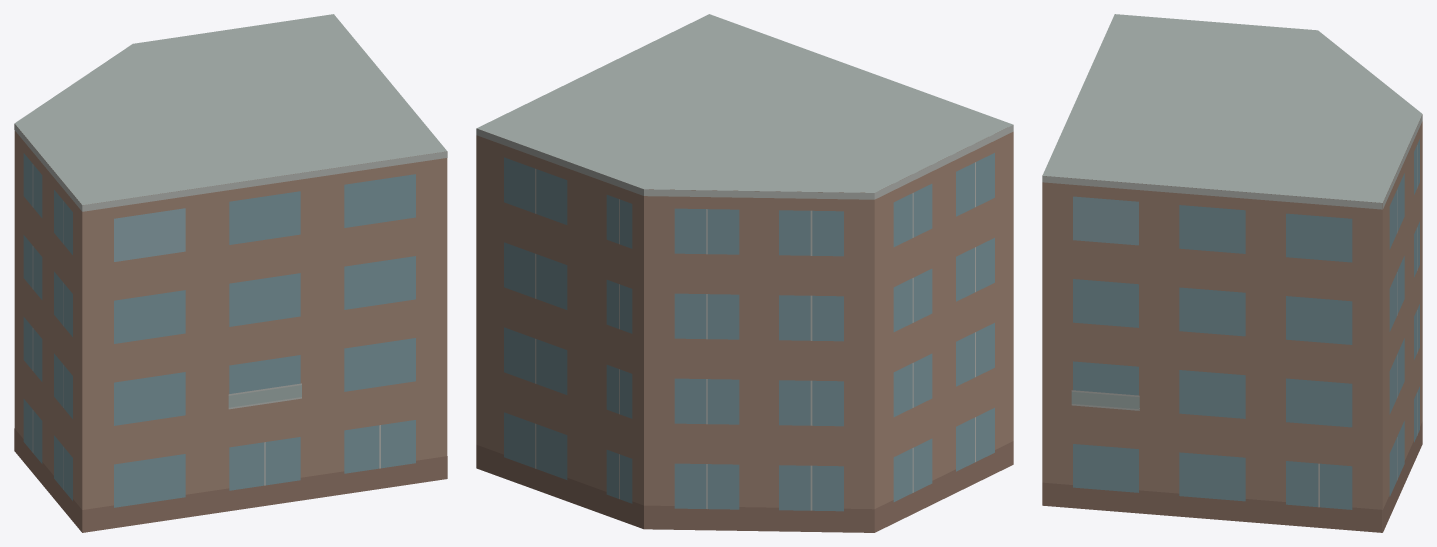
File: residential-d62f4e28-42a2-43b7-be97-ad06201de8b6.glb
The picture shows the model from 3 angles, left to right: view 1: azimuth 30°, elevation 25°; view 2: azimuth 150°, elevation 25°; view 3: azimuth 270°, elevation 25°; orthographic projection. The views are drawn at different scales.
Parts seen in each view (by area): view 1: residential-d62f4e28-42a2-43b7-be97-ad06201de8b6.tmp; view 2: residential-d62f4e28-42a2-43b7-be97-ad06201de8b6.tmp; view 3: residential-d62f4e28-42a2-43b7-be97-ad06201de8b6.tmp.
Boxes of the visible parts, <box> form: residential-d62f4e28-42a2-43b7-be97-ad06201de8b6.tmp: <box>14,14,447,532</box>; residential-d62f4e28-42a2-43b7-be97-ad06201de8b6.tmp: <box>476,14,1013,532</box>; residential-d62f4e28-42a2-43b7-be97-ad06201de8b6.tmp: <box>1042,14,1422,532</box>.
Bounding box in the file's own units: 15 × 12.2 × 12.76.
